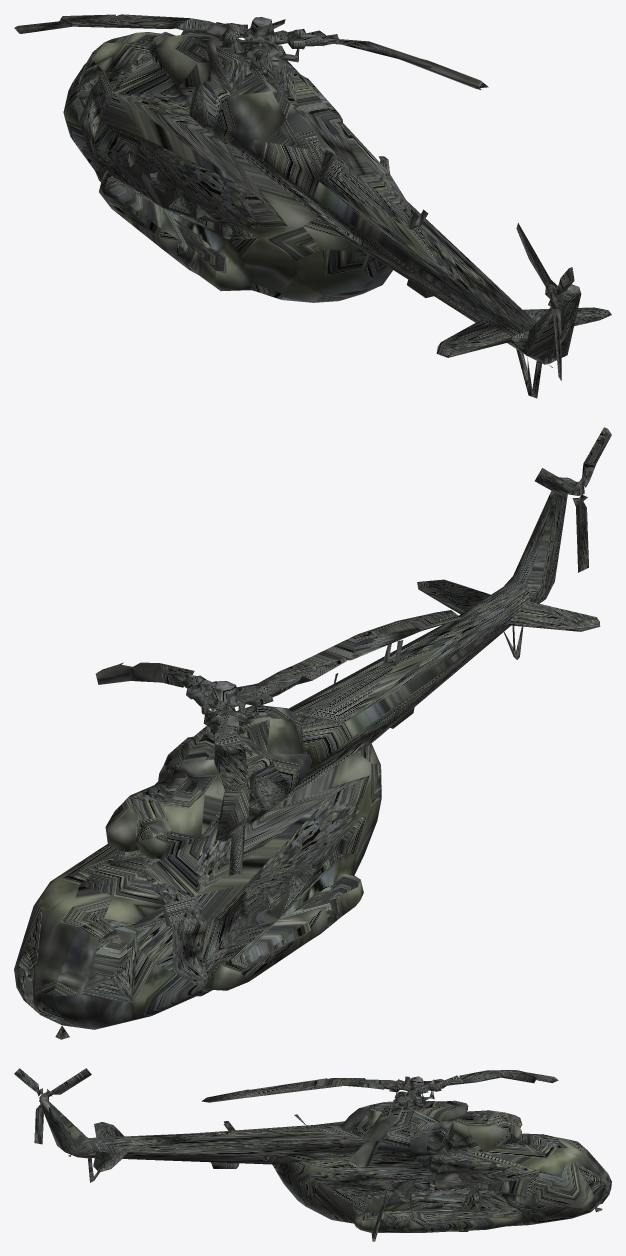
Rendered from mi8_wreck_remesh.glb.
3 renders of one model, top to bottom at view 1: azimuth 30°, elevation 25°; view 2: azimuth 150°, elevation 25°; view 3: azimuth 270°, elevation 25°, orthographic. The views are drawn at different scales.
Visible parts, largest first — view 1: output_unwrapped; view 2: output_unwrapped; view 3: output_unwrapped.
Boxes of the visible parts, left/top/right/bottom form: output_unwrapped: left=14, top=14, right=611, bottom=398; output_unwrapped: left=14, top=427, right=611, bottom=1039; output_unwrapped: left=14, top=1068, right=611, bottom=1241.
Size of the model in its own units: 5.36 by 4 by 15.48.
Materials: 1 (1 with a texture image).
